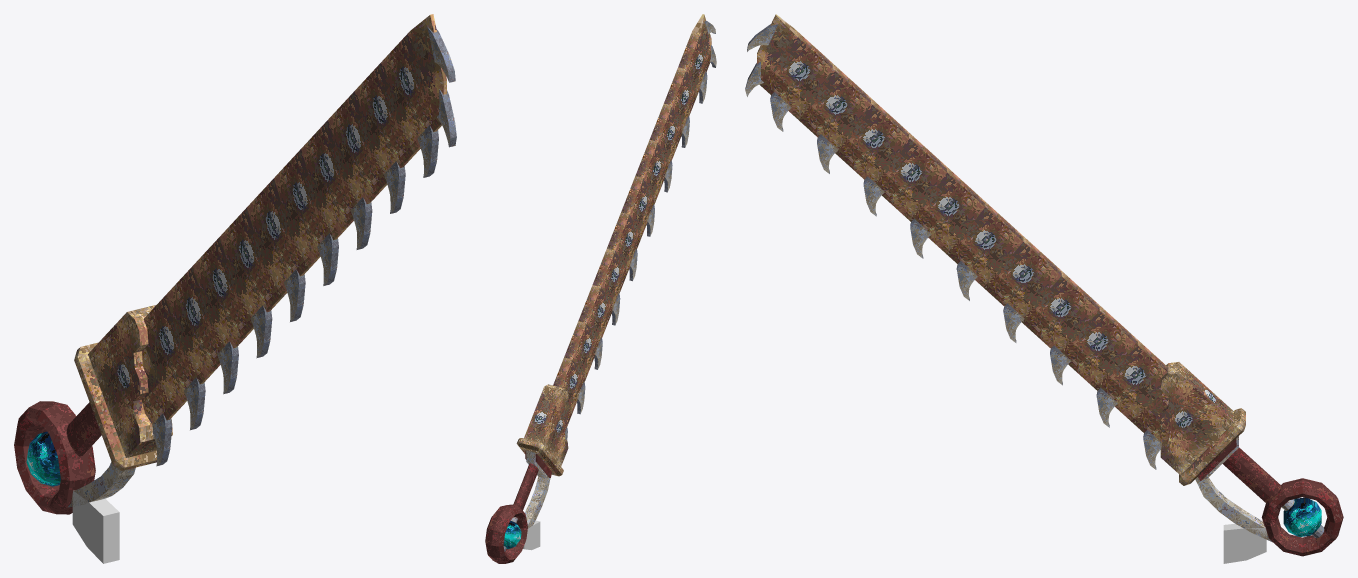
Rendered from overheatSwordColor.fbx.
The picture shows the model from 3 angles, left to right: view 1: azimuth 30°, elevation 25°; view 2: azimuth 150°, elevation 25°; view 3: azimuth 270°, elevation 25°; orthographic projection. The views are drawn at different scales.
Parts seen in each view (by area): view 1: Blade, BladeBase, coreOutline, handleBase, handleGuardTop, core, handleGuard, handle, Teeth6, Teeth3, Teeth8, Teeth2 (+7 smaller); view 2: Blade, BladeBase, coreOutline, handleGuard, handleGuardTop, handle, handleBase, core; view 3: Blade, BladeBase, coreOutline, handleGuard, handleBase, handle, handleGuardTop, core.
Boxes of the visible parts, <box> form: Blade: <box>142,14,446,424</box>; BladeBase: <box>88,305,172,457</box>; coreOutline: <box>14,401,95,514</box>; handleBase: <box>72,490,119,563</box>; handleGuardTop: <box>74,342,156,470</box>; core: <box>26,431,60,486</box>; handleGuard: <box>67,462,135,507</box>; handle: <box>66,402,101,456</box>; Teeth6: <box>317,233,338,285</box>; Teeth3: <box>217,341,238,394</box>; Teeth8: <box>384,161,405,213</box>; Teeth2: <box>184,377,205,430</box>; Blade: <box>553,14,711,426</box>; BladeBase: <box>524,384,568,466</box>; coreOutline: <box>485,504,527,563</box>; handleGuard: <box>525,450,550,528</box>; handleGuardTop: <box>516,438,563,476</box>; handle: <box>513,463,538,510</box>; handleBase: <box>523,520,540,550</box>; core: <box>503,520,521,548</box>; Blade: <box>757,14,1169,442</box>; BladeBase: <box>1160,362,1233,475</box>; coreOutline: <box>1261,478,1343,556</box>; handleGuard: <box>1195,436,1272,542</box>; handleBase: <box>1223,523,1266,563</box>; handle: <box>1223,447,1281,503</box>; handleGuardTop: <box>1179,408,1245,485</box>; core: <box>1283,497,1321,536</box>.
Bounding box in the file's own units: 18.75 × 286 × 284.
4 materials, 4 textured.
